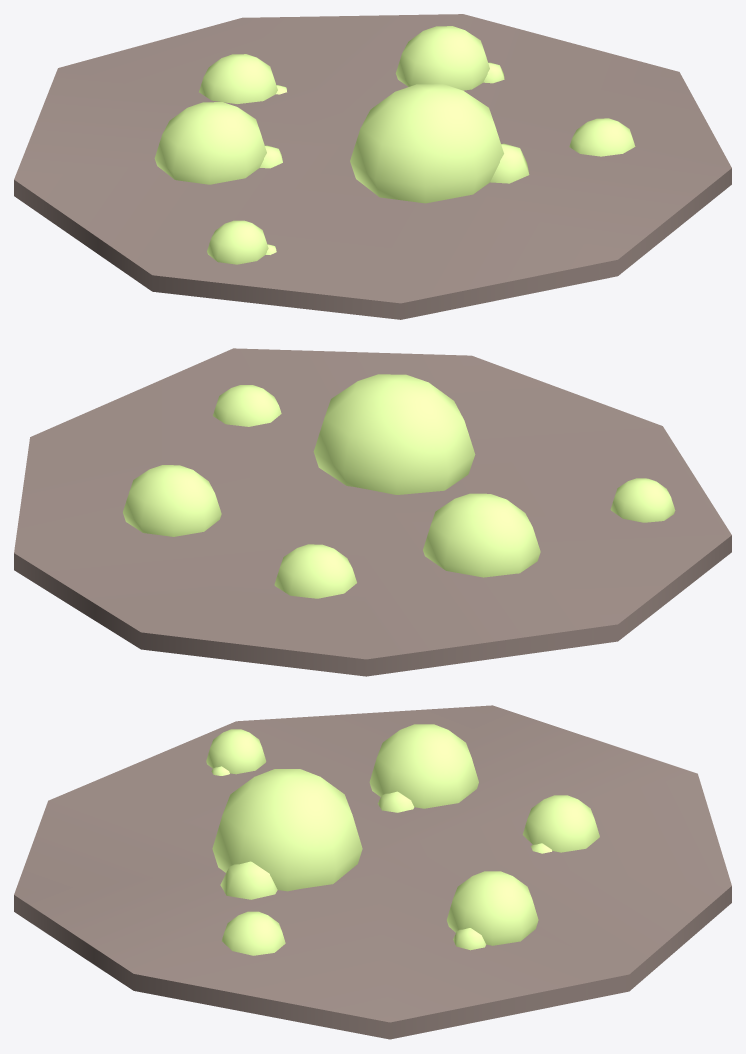
File: undead-horde-and-infected-variants-ground-growth-patch-c5b81fbf__12017.glb
3 renders of one model, top to bottom at view 1: azimuth 30°, elevation 25°; view 2: azimuth 150°, elevation 25°; view 3: azimuth 270°, elevation 25°, orthographic. The views are drawn at different scales.
Parts seen in each view (by area): view 1: ground-growth-patch; view 2: ground-growth-patch; view 3: ground-growth-patch.
Boxes of the visible parts, x1,y1,x2,y2 form: ground-growth-patch: [14, 14, 731, 319]; ground-growth-patch: [14, 348, 731, 676]; ground-growth-patch: [14, 705, 731, 1039].
Bounding box in the file's own units: 0.86 × 0.17 × 0.8401.
